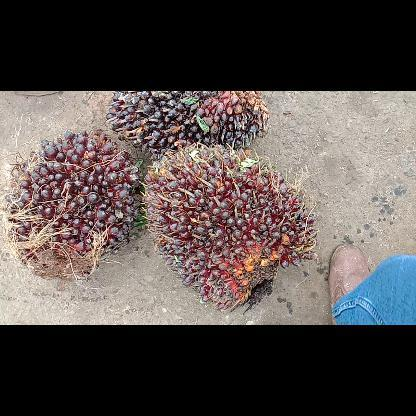Kurang masak: (145, 142, 317, 310), (6, 130, 138, 280)
TBS mentah: (106, 90, 266, 152)
